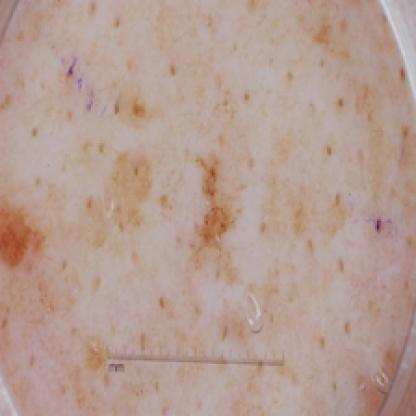malignant: (98, 96, 256, 278)
